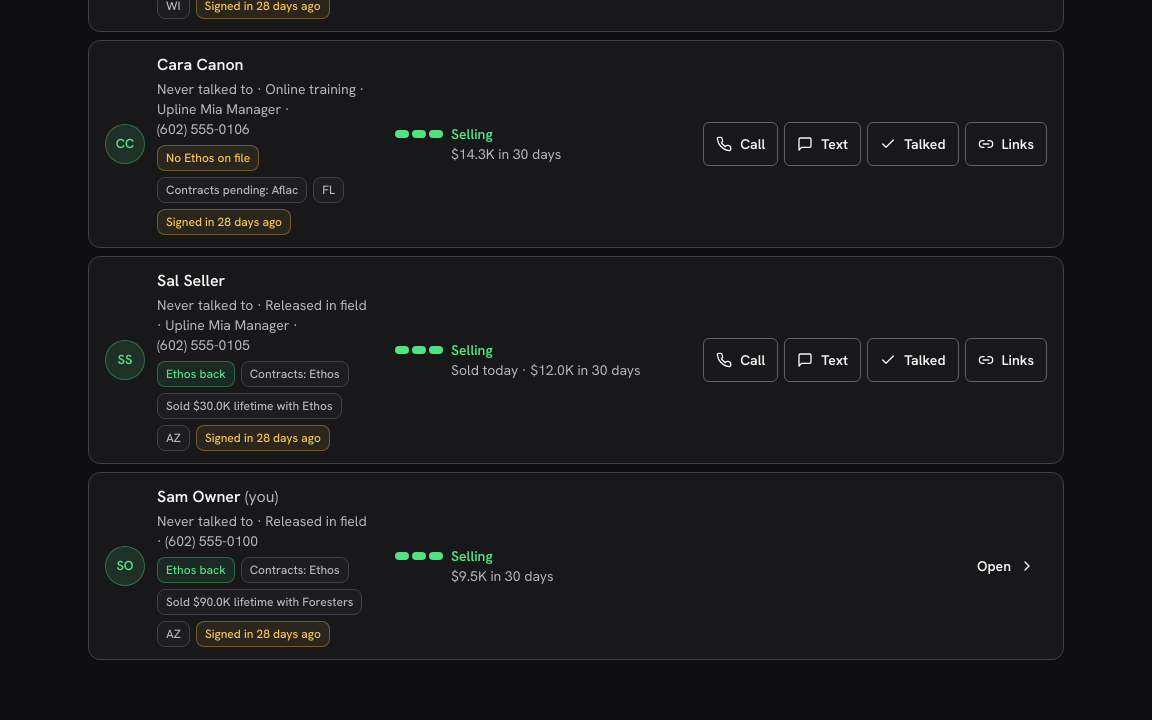
Scenario: My Team: four numbers, one list › sellers get Call too; your own row opens the card; the row itself still opens the card
(page scrolled)
Expected: the link with aria-label "Call Sal Seller" is shown, [703,338,778,382]
Expected: the link with aria-label "Text Sal Seller" is shown, [784,338,861,382]
Click the button "Sal Seller": coordinates (191, 280) [157,269,683,451]
(page scrolled)
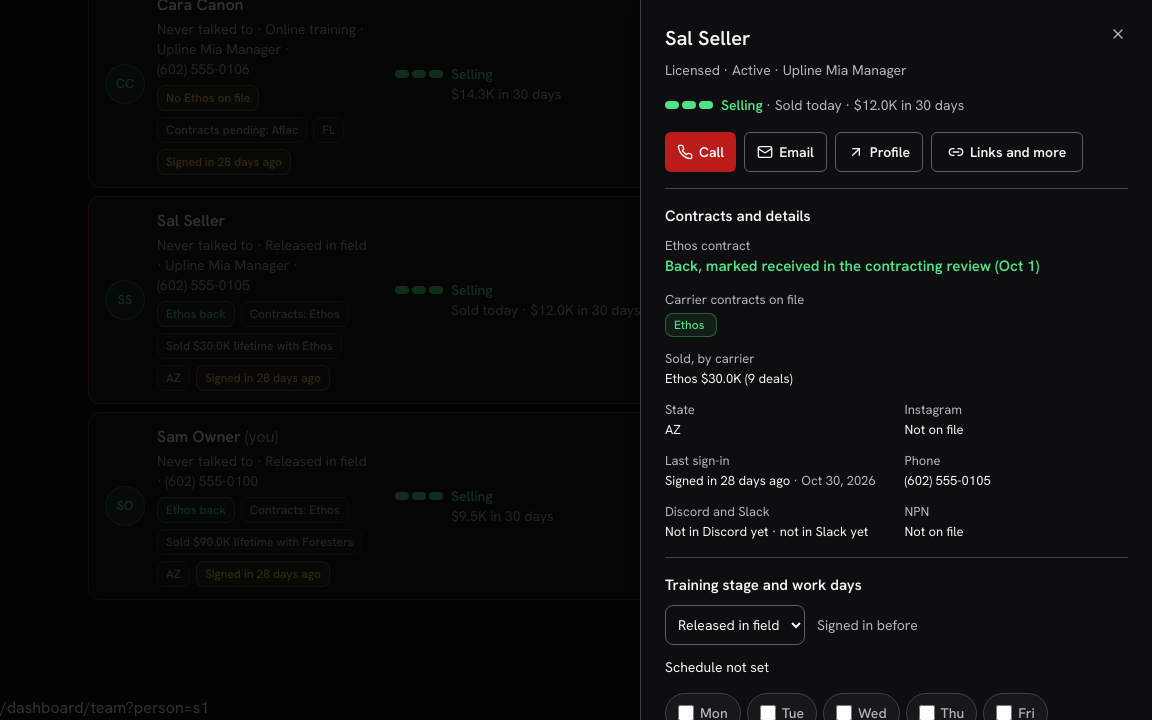
Expected: the text with test id "location" shows "person=s1", [0,697,209,718]
